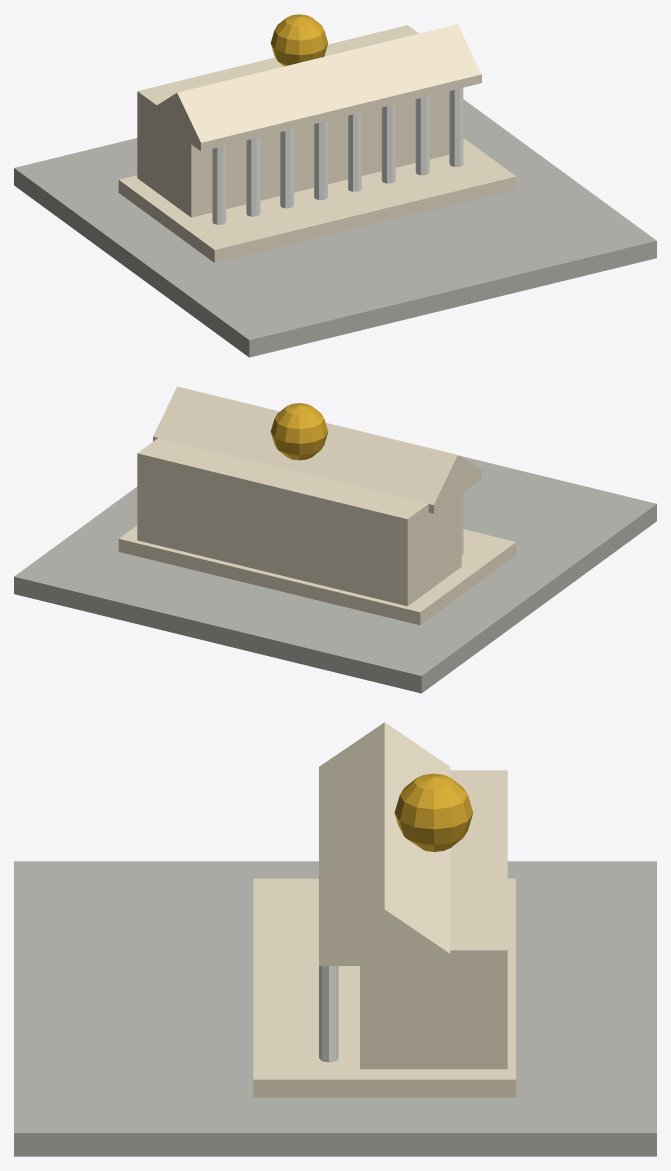
Rendered from finance_income_2.glb.
The picture shows the model from 3 angles, top to bottom: view 1: azimuth 30°, elevation 25°; view 2: azimuth 150°, elevation 25°; view 3: azimuth 270°, elevation 25°; orthographic projection. The views are drawn at different scales.
Visible parts, largest first — view 1: finance_income_2; view 2: finance_income_2; view 3: finance_income_2.
Boxes of the visible parts, x1,y1,x2,y2 form: finance_income_2: (14, 14, 656, 357); finance_income_2: (14, 386, 656, 693); finance_income_2: (14, 722, 656, 1156).
Bounding box in the file's own units: 1.96 × 0.82 × 1.96.
